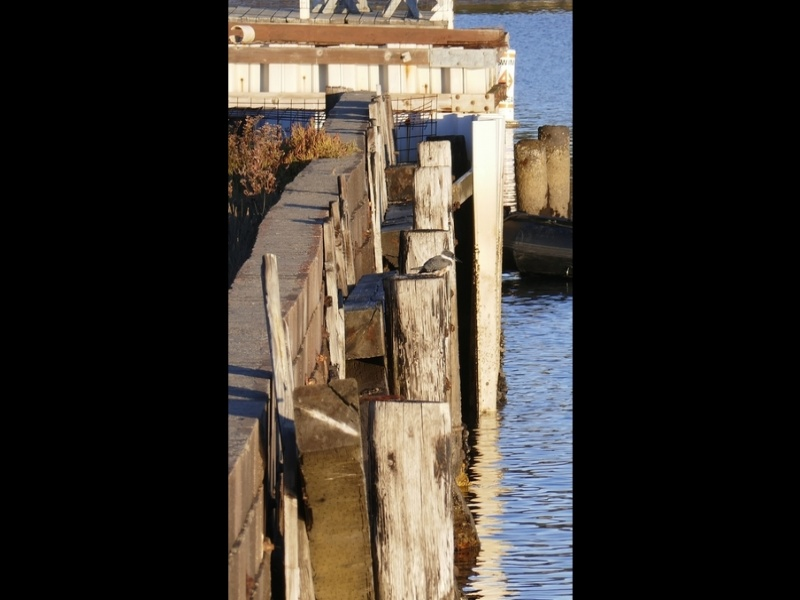kingfisher: (419, 251, 459, 278)
